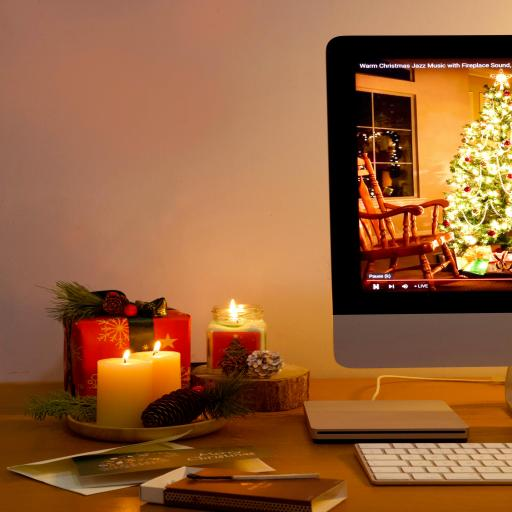candlelight: (97, 326, 143, 441), (210, 292, 270, 362), (136, 314, 187, 390)
